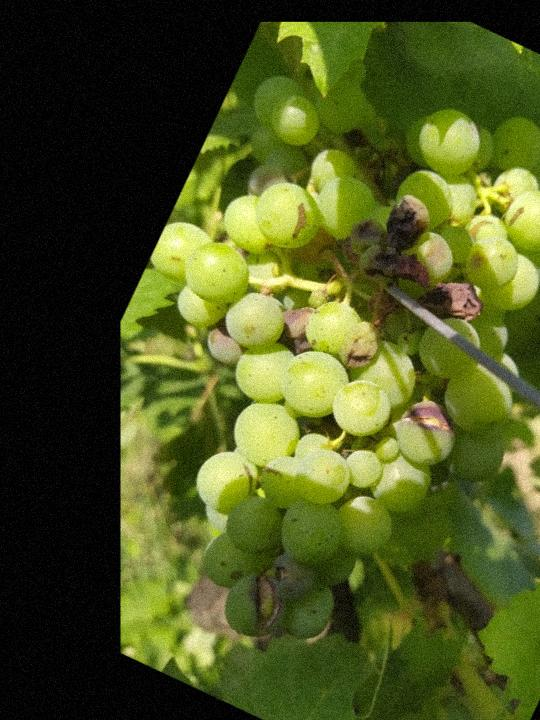grape: (25, 0, 540, 711)
